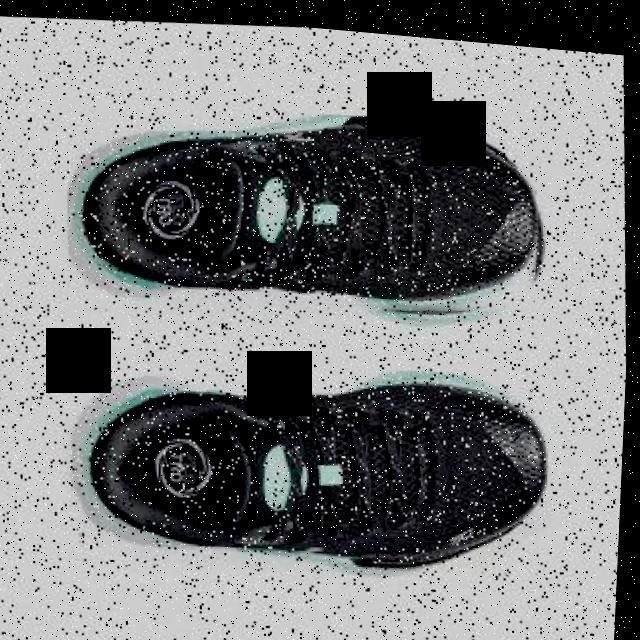shoe: (60, 78, 554, 343), (69, 332, 561, 595)
